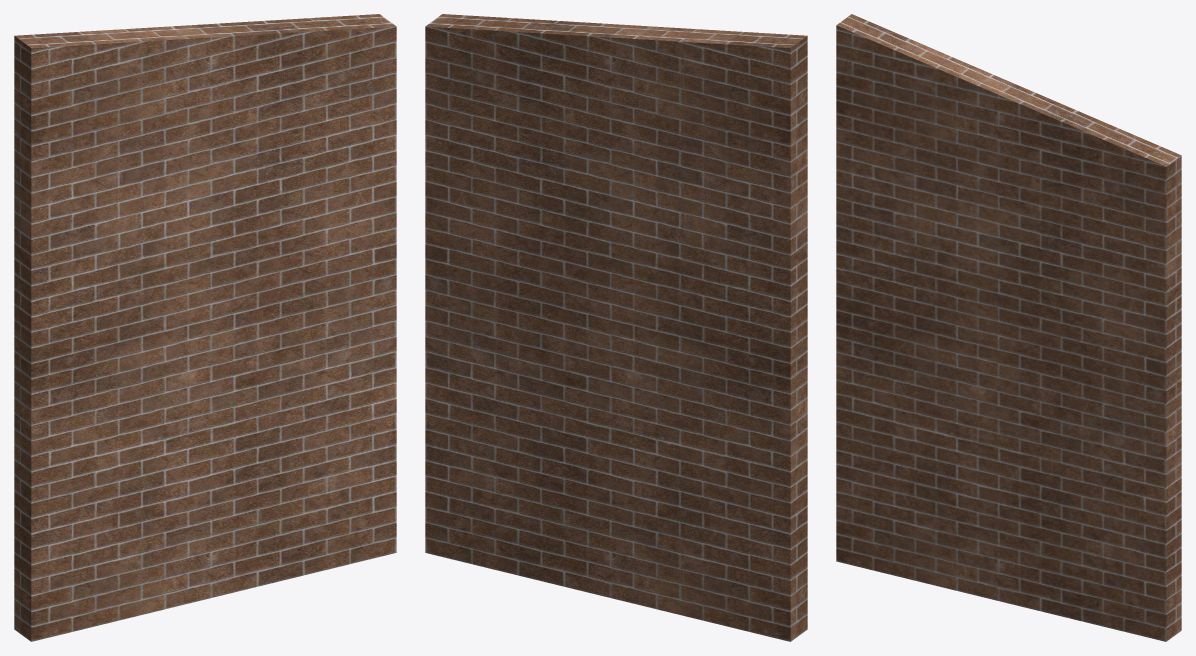
Rendered from Joglo_part_278.fbx.
3 views of the same model, side by side, from view 1: azimuth 30°, elevation 25°; view 2: azimuth 150°, elevation 25°; view 3: azimuth 330°, elevation 25° (orthographic). The views are drawn at different scales.
Visible parts, largest first — view 1: Mesh343_Brick___Brown_0.001; view 2: Mesh343_Brick___Brown_0.001; view 3: Mesh343_Brick___Brown_0.001.
Part boxes in pixels (left/top/right/bottom): Mesh343_Brick___Brown_0.001: left=14, top=14, right=396, bottom=641; Mesh343_Brick___Brown_0.001: left=425, top=14, right=807, bottom=641; Mesh343_Brick___Brown_0.001: left=836, top=14, right=1181, bottom=641.
Bounding box in the file's own units: 72.84 × 113 × 5.91.
